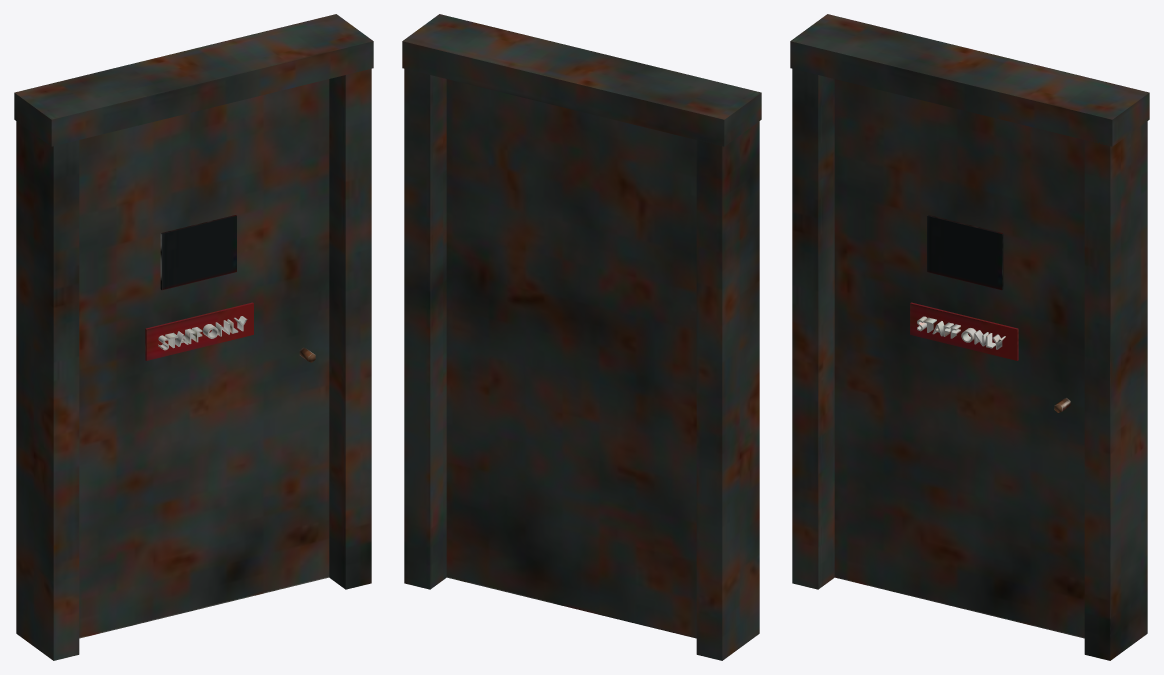
Rendered from staff_door.glb.
The picture shows the model from 3 angles, left to right: view 1: azimuth 30°, elevation 25°; view 2: azimuth 150°, elevation 25°; view 3: azimuth 330°, elevation 25°; orthographic projection.
Visible parts, largest first — view 1: Door, Main; view 2: Door, Main; view 3: Door, Main.
Boxes of the visible parts, x1,y1,x2,y2 form: Door: (79,79,329,638); Main: (14,14,373,660); Door: (446,79,696,638); Main: (402,14,761,660); Door: (834,79,1084,638); Main: (790,14,1149,660).
Size of the model in its own units: 1.5 by 2.41 by 0.3.
2 materials, 2 textured.
